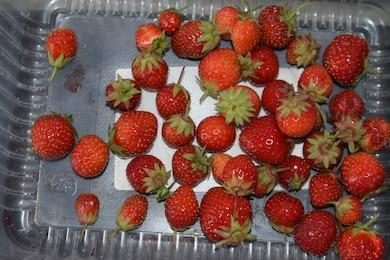Fresa: (199, 184, 254, 247), (238, 112, 296, 168), (107, 105, 160, 161), (322, 32, 373, 90), (336, 148, 388, 200), (28, 111, 78, 165), (292, 207, 342, 259), (197, 45, 242, 100), (272, 92, 320, 141), (261, 188, 307, 237), (218, 82, 264, 129), (218, 151, 261, 200), (69, 132, 111, 182), (124, 153, 170, 197), (171, 18, 219, 60), (171, 142, 213, 189), (258, 3, 298, 52), (163, 183, 201, 233), (329, 86, 365, 138), (194, 114, 238, 156), (302, 128, 345, 170), (131, 48, 170, 93), (307, 169, 347, 212), (229, 14, 264, 62), (296, 61, 336, 103), (45, 24, 80, 70), (155, 80, 193, 122), (160, 110, 197, 151), (114, 192, 151, 232), (105, 77, 143, 113), (132, 21, 167, 56), (333, 194, 366, 226), (73, 192, 101, 228)
